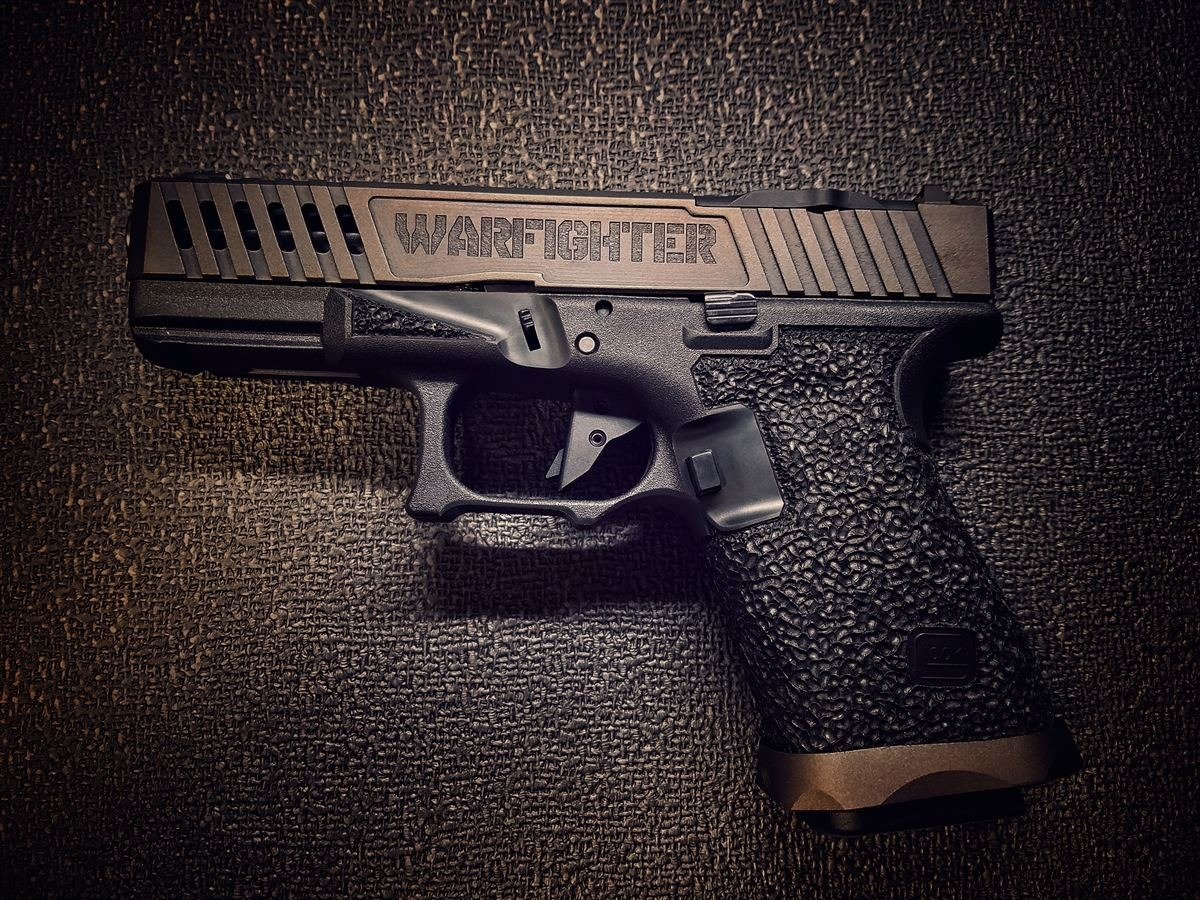gun: (126, 153, 1087, 832)
